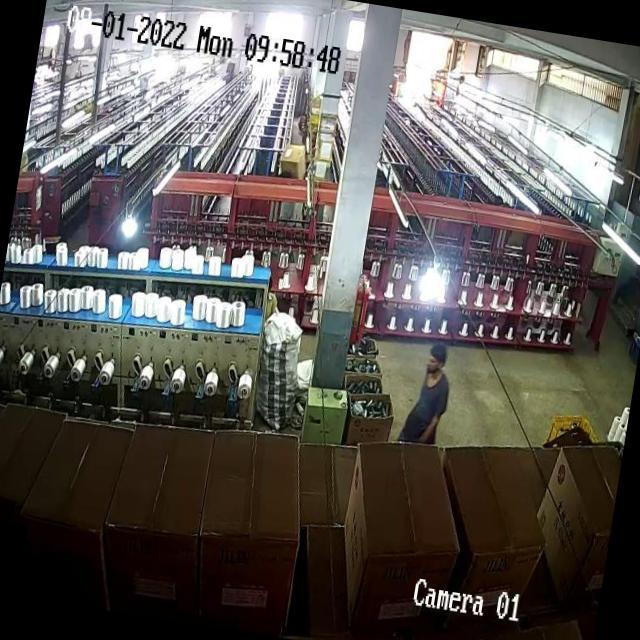person: (410, 330, 455, 440), (262, 278, 280, 322)
